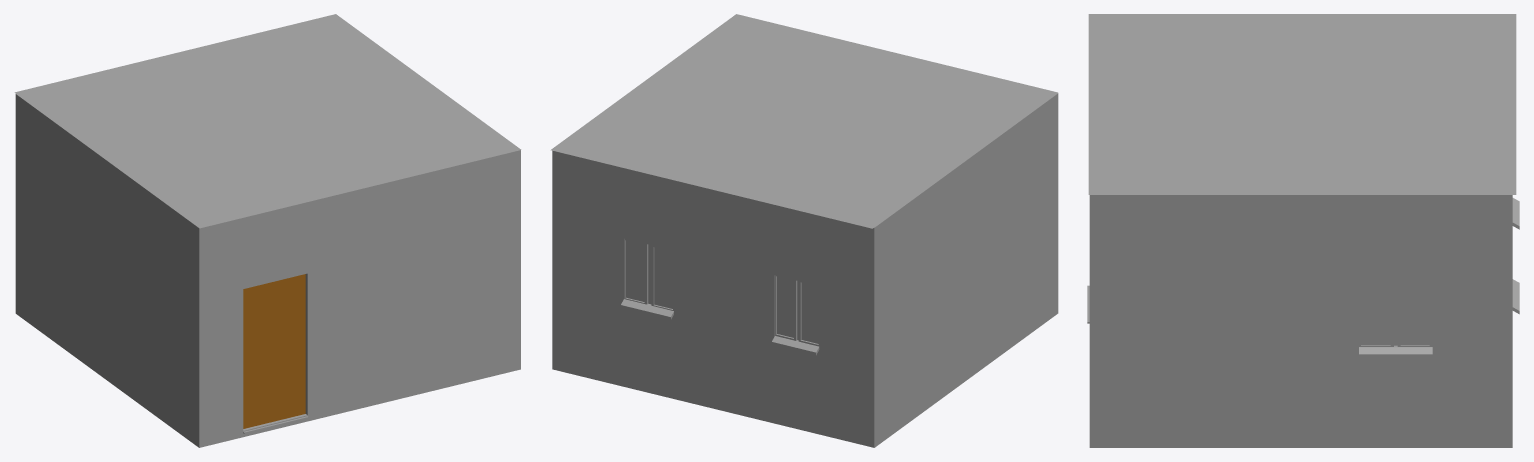
The model's file is room done.fbx.
3 views of the same model, side by side, from view 1: azimuth 30°, elevation 25°; view 2: azimuth 150°, elevation 25°; view 3: azimuth 270°, elevation 25° (orthographic). The views are drawn at different scales.
Parts seen in each view (by area): view 1: roomWithWalls, pPlane1, door; view 2: roomWithWalls, pPlane1, rightWindowRightBackWall, rightWindowLeftBackWall, leftWindowRightBackWall, leftWindowLeftBackWall; view 3: roomWithWalls, pPlane1, leftWindowSideWall, rightWindowSideWall.
Boxes of the visible parts, <box> form: roomWithWalls: <box>15,94,520,447</box>; pPlane1: <box>14,14,521,228</box>; door: <box>243,274,305,428</box>; roomWithWalls: <box>552,93,1058,447</box>; pPlane1: <box>550,14,1057,228</box>; rightWindowRightBackWall: <box>624,238,648,304</box>; rightWindowLeftBackWall: <box>651,245,673,310</box>; leftWindowRightBackWall: <box>775,275,797,340</box>; leftWindowLeftBackWall: <box>798,281,819,346</box>; roomWithWalls: <box>1087,195,1519,447</box>; pPlane1: <box>1088,14,1516,194</box>; leftWindowSideWall: <box>1397,277,1432,346</box>; rightWindowSideWall: <box>1359,277,1393,346</box>.
Bounding box in the file's own units: 34.57 × 22.21 × 34.39.
